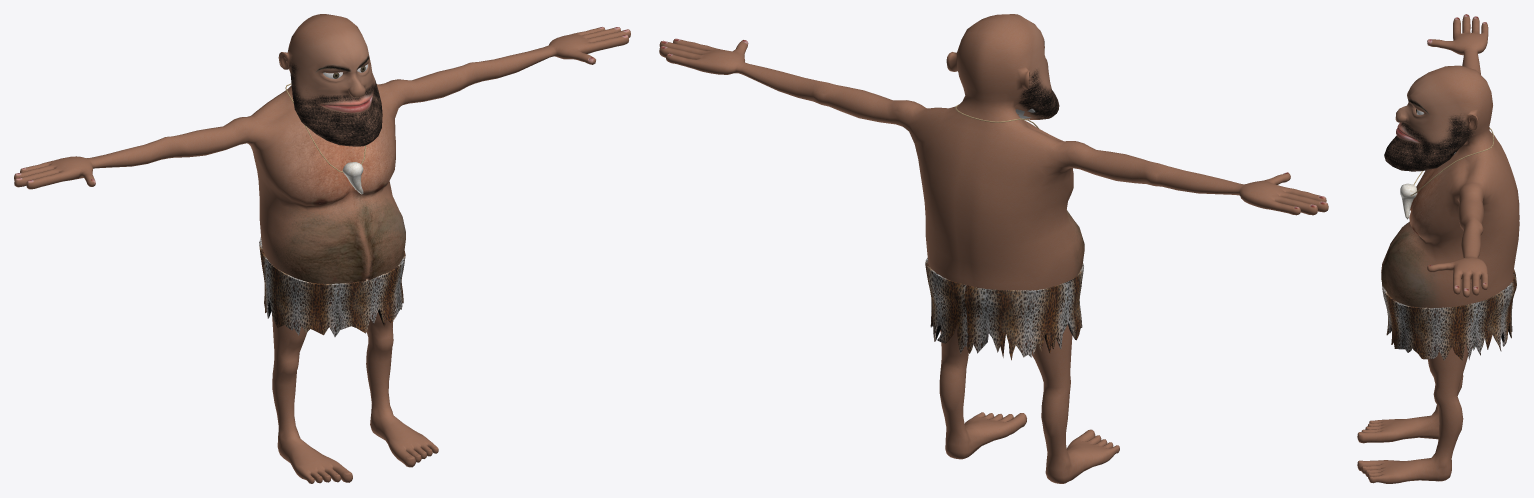
Rendered from aaa.FBX.
3 renders of one model, left to right at view 1: azimuth 30°, elevation 25°; view 2: azimuth 150°, elevation 25°; view 3: azimuth 270°, elevation 25°, orthographic. The views are drawn at different scales.
Visible parts, largest first — view 1: body, Box044; view 2: body, Box044; view 3: body, Box044, Box045, Circle001.
Part boxes in pixels (<box>): body: <box>14,14,630,483</box>; Box044: <box>259,237,405,336</box>; body: <box>659,14,1328,483</box>; Box044: <box>925,258,1083,360</box>; body: <box>1357,14,1519,483</box>; Box044: <box>1382,269,1516,360</box>; Box045: <box>1400,183,1417,219</box>; Circle001: <box>1410,128,1493,195</box>.
Size of the model in its own units: 150 by 97.87 by 36.95.
